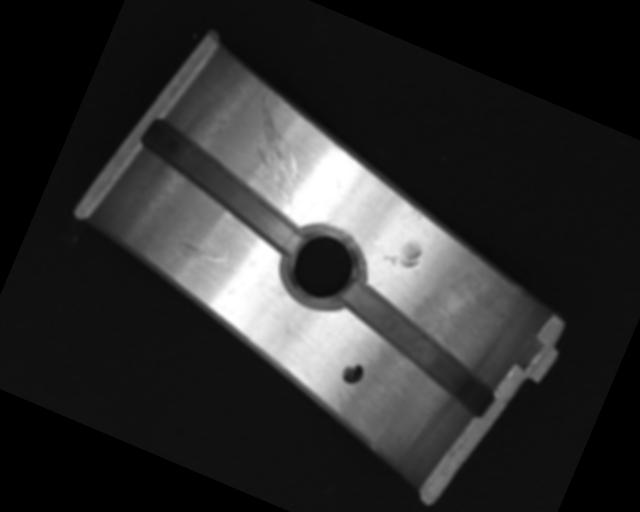blot: (338, 358, 368, 388)
bruise: (382, 232, 425, 273), (403, 203, 426, 223)
gap: (123, 114, 323, 255), (322, 279, 513, 420)
hole: (271, 216, 372, 320)
nick: (228, 93, 329, 209), (175, 235, 240, 275)
